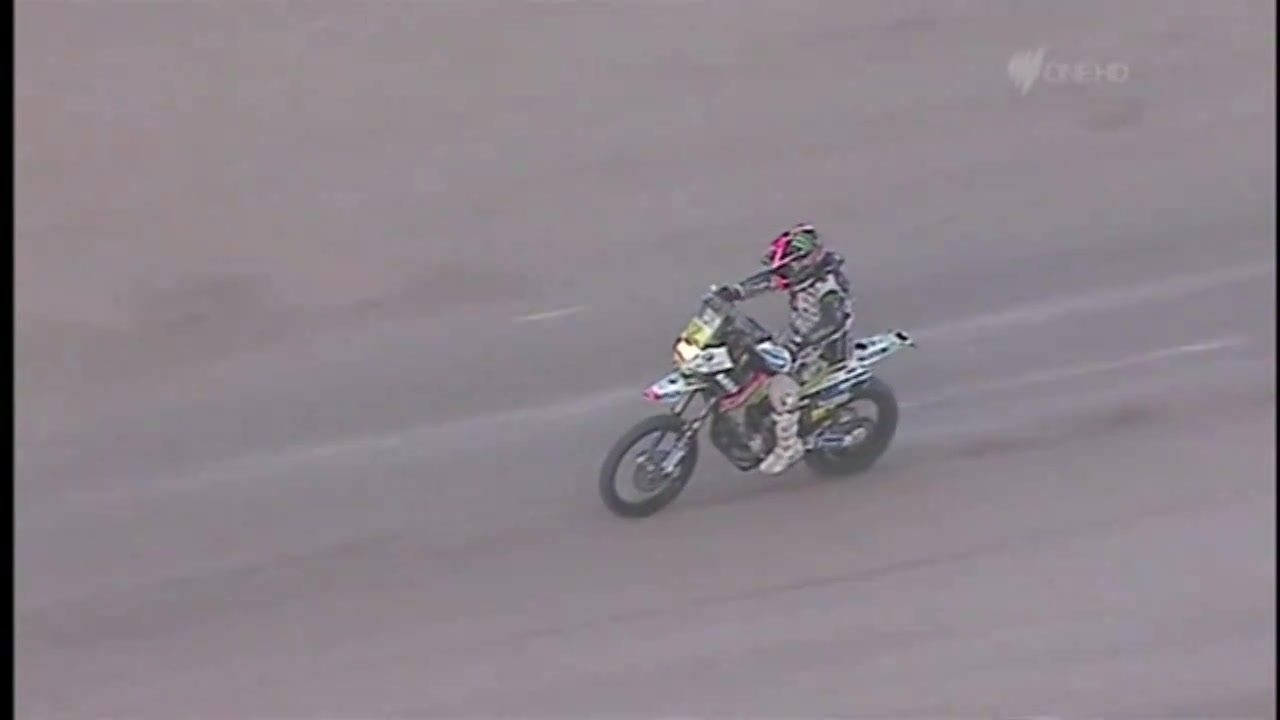motorbike: (598, 288, 914, 525)
